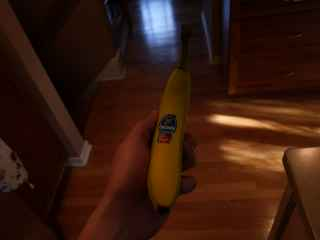banana: (145, 19, 197, 222)
